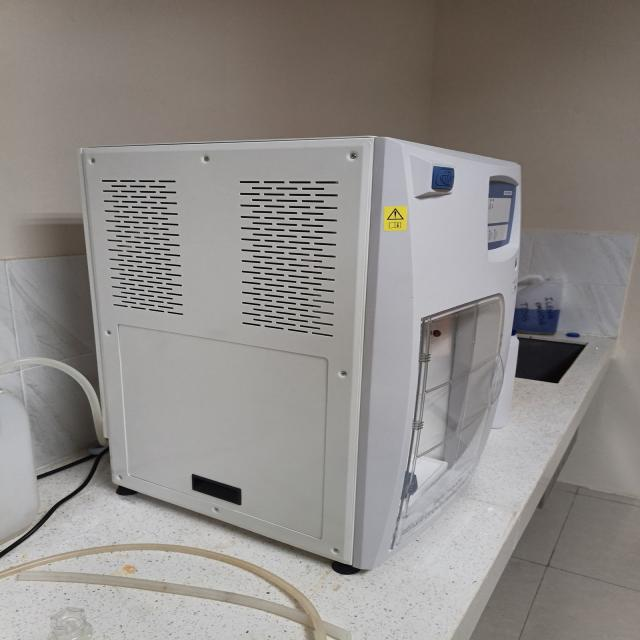Destilacion por Arrastre de Vapor: (81, 136, 521, 569)
